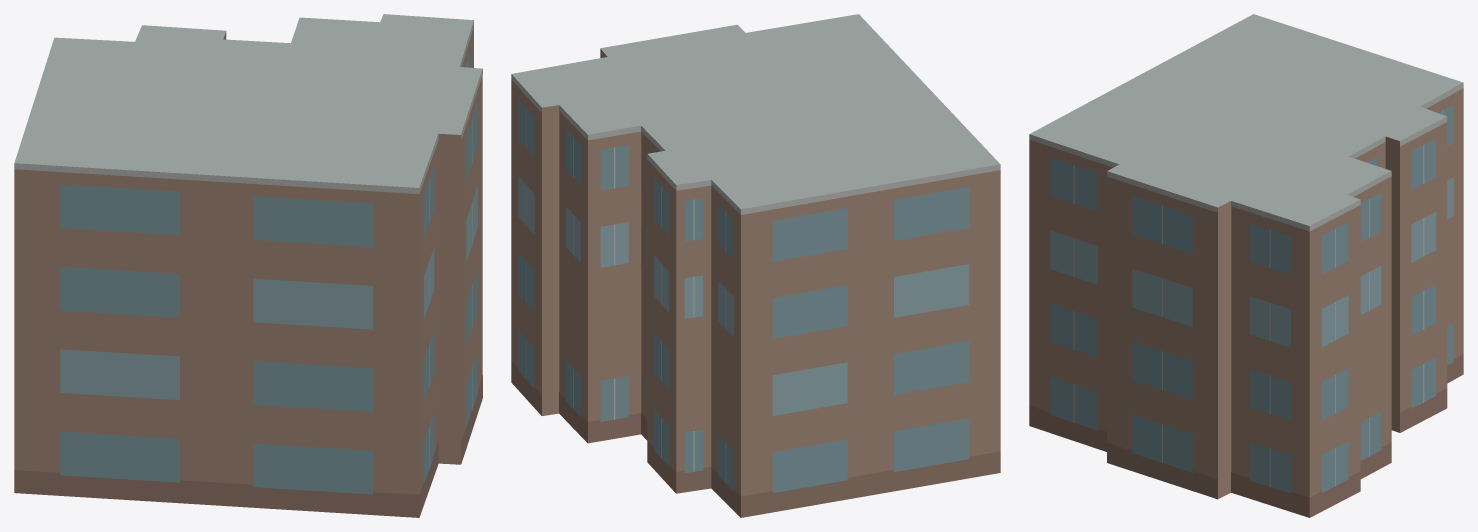
The model's file is survey-upis-32956478.glb.
3 views of the same model, side by side, from view 1: azimuth 30°, elevation 25°; view 2: azimuth 150°, elevation 25°; view 3: azimuth 270°, elevation 25° (orthographic). The views are drawn at different scales.
Visible parts, largest first — view 1: survey-upis-32956478.tmp; view 2: survey-upis-32956478.tmp; view 3: survey-upis-32956478.tmp.
Part boxes in pixels (x1=…): survey-upis-32956478.tmp: x1=14, y1=14, x2=482, y2=517; survey-upis-32956478.tmp: x1=511, y1=14, x2=1000, y2=517; survey-upis-32956478.tmp: x1=1029, y1=14, x2=1463, y2=517.
Bounding box in the file's own units: 20.66 × 13.25 × 17.88.
